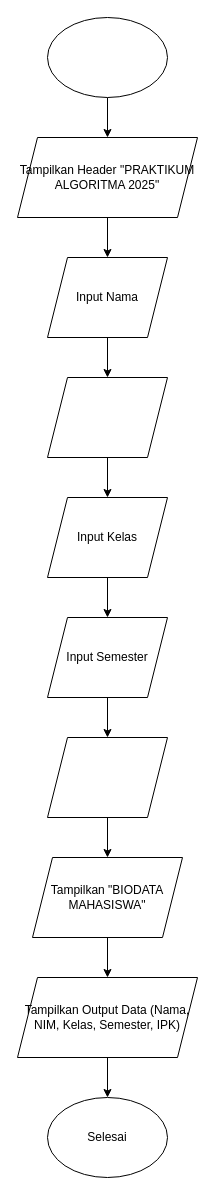
Image size: 215x1195. Some labels were removed from this diagram. Each missing label, with the centre of its shape:
Input IPK: point (107, 777)
Input NIM: point (107, 417)
Mulai: point (107, 57)
